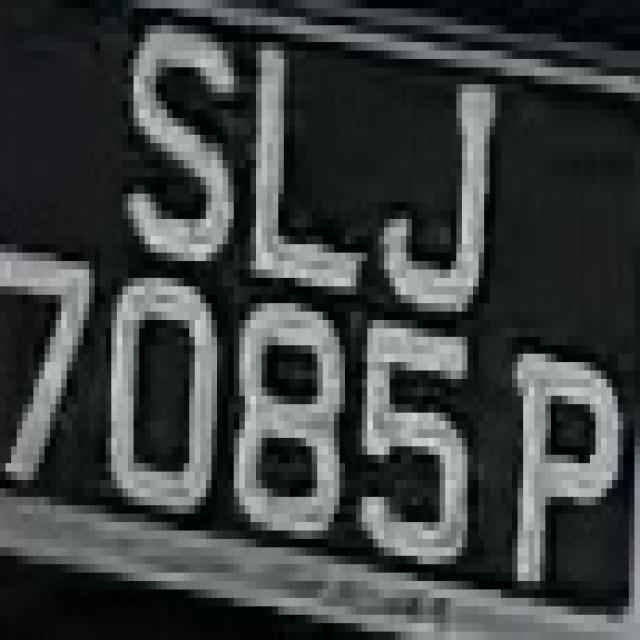0: (106, 236, 217, 556)
5: (356, 261, 473, 598)
7: (0, 194, 89, 530)
8: (222, 286, 350, 598)
J: (367, 42, 518, 320)
L: (245, 17, 373, 328)
P: (501, 303, 634, 632)
S: (116, 0, 239, 269)
